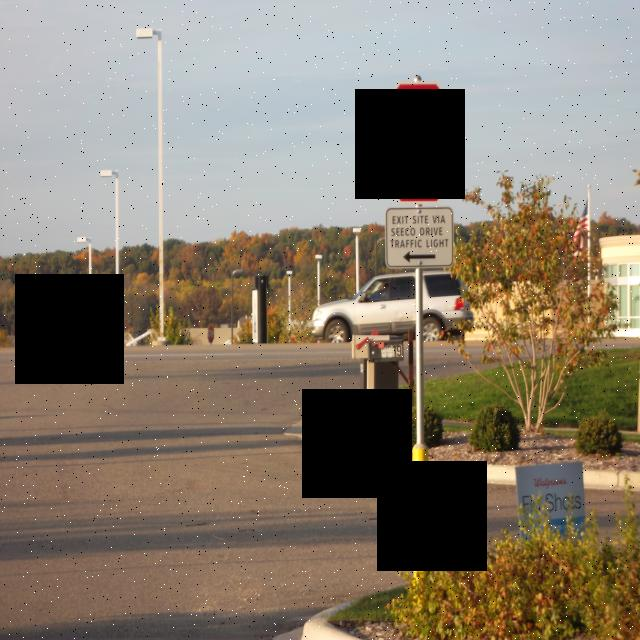regulatory: (385, 206, 455, 268)
stop: (372, 81, 465, 205)
